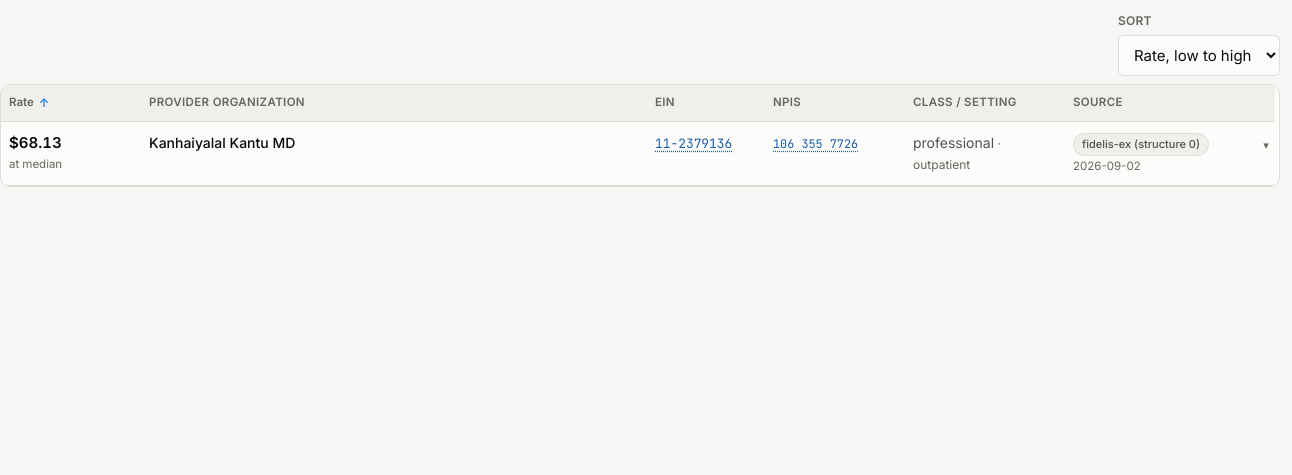
Test: expansion › collapses everything when the results change
This screenshot has width=1292, height=475.
Click the button with class "expand-btn" at point(1266, 145), box [1253, 132, 1279, 158]
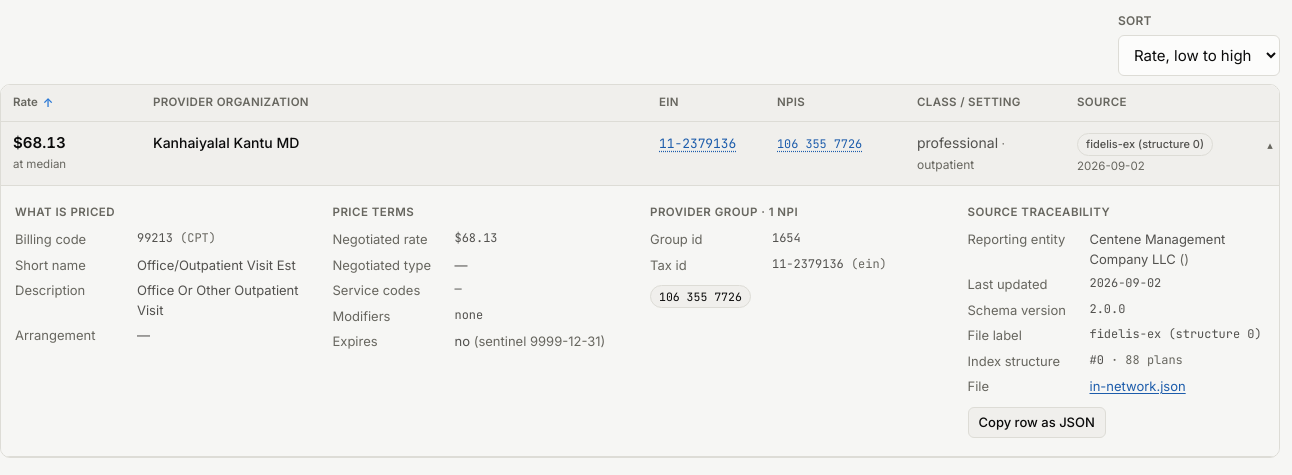
Now the row with class "detail-row" is shown, box [1, 185, 1279, 457]
